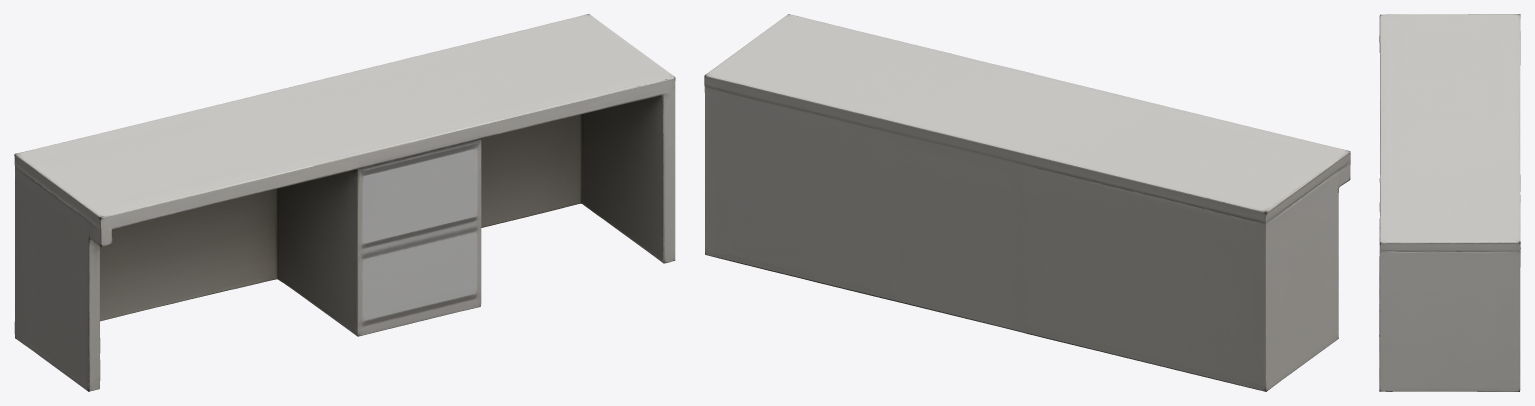
File: room_scan_70630b05-6ef2-4b5a-8741-54d20a5d9365_scene_desk_001_desk_frame_0005_bbox_1113_1627_1860_577_textured_yolo_12k_v1.glb
3 renders of one model, left to right at view 1: azimuth 30°, elevation 25°; view 2: azimuth 150°, elevation 25°; view 3: azimuth 270°, elevation 25°, orthographic. The views are drawn at different scales.
Visible parts, largest first — view 1: world; view 2: world; view 3: world.
Boxes of the visible parts, bbox=[...] form: world: bbox=[14, 14, 675, 391]; world: bbox=[704, 14, 1350, 391]; world: bbox=[1379, 14, 1520, 391].
Bounding box in the file's own units: 0.9985 × 0.3067 × 0.2616.
Materials: 1 (1 with a texture image).
